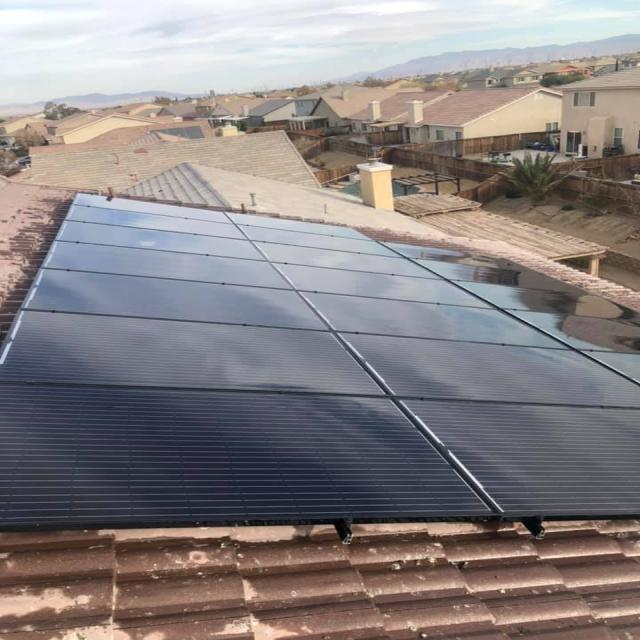clean-solar-panel: (5, 538, 170, 640)
